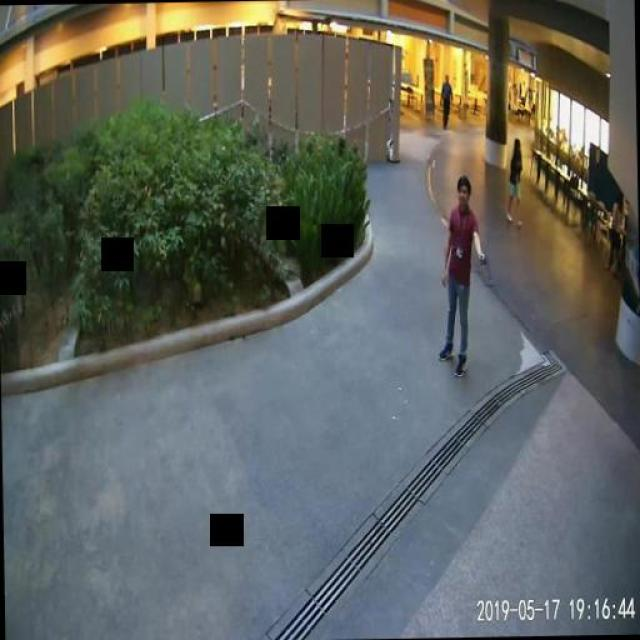gun: (478, 250, 490, 278)
